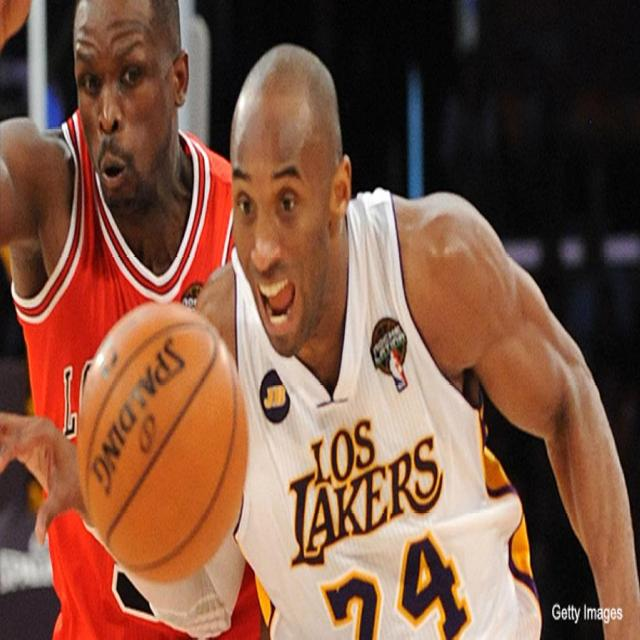Face: (231, 83, 327, 351), (67, 1, 187, 213)
